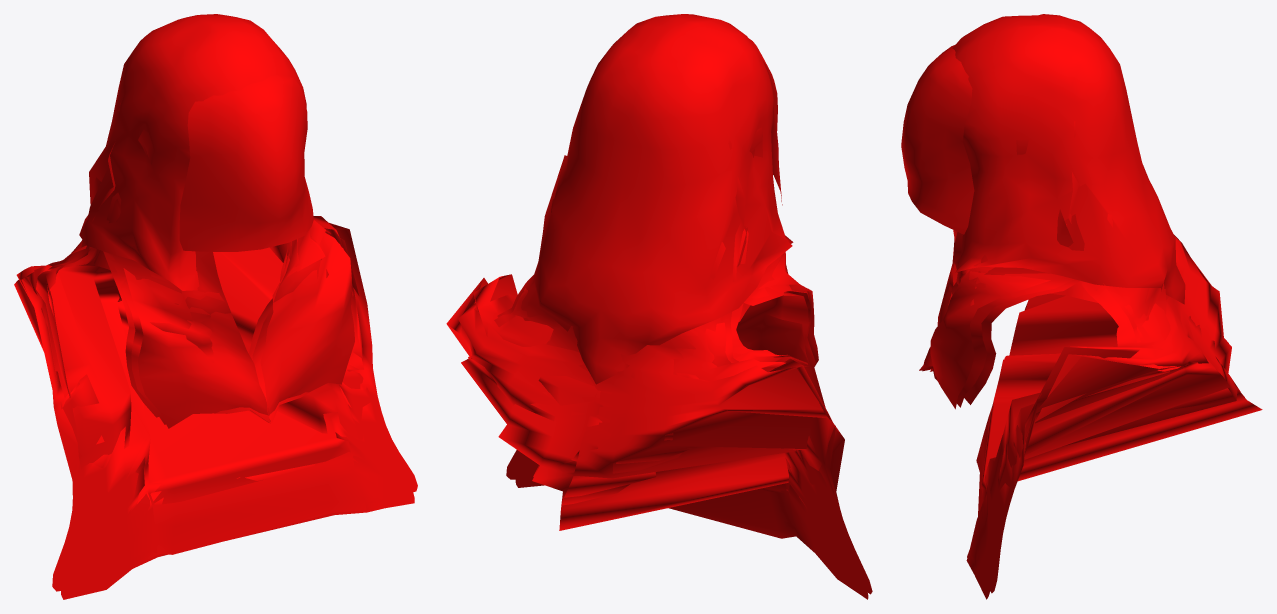
File: punkduck_alpha7_long_M.glb
3 views of the same model, side by side, from view 1: azimuth 30°, elevation 25°; view 2: azimuth 150°, elevation 25°; view 3: azimuth 270°, elevation 25° (orthographic). The views are drawn at different scales.
Bounding box in the file's own units: 0.4854 × 0.6769 × 0.4347.
1 material, 1 textured.
